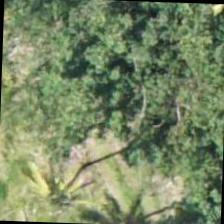Kelapa_Sawit: (12, 140, 106, 222)
